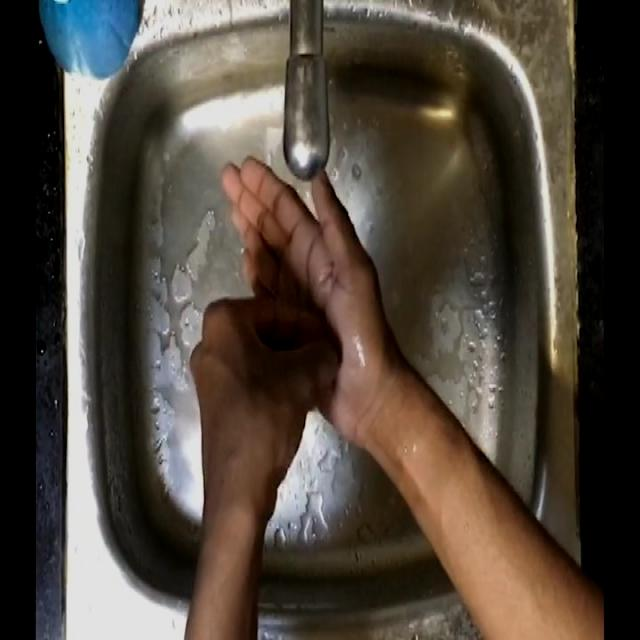step_6: (179, 144, 389, 484)
